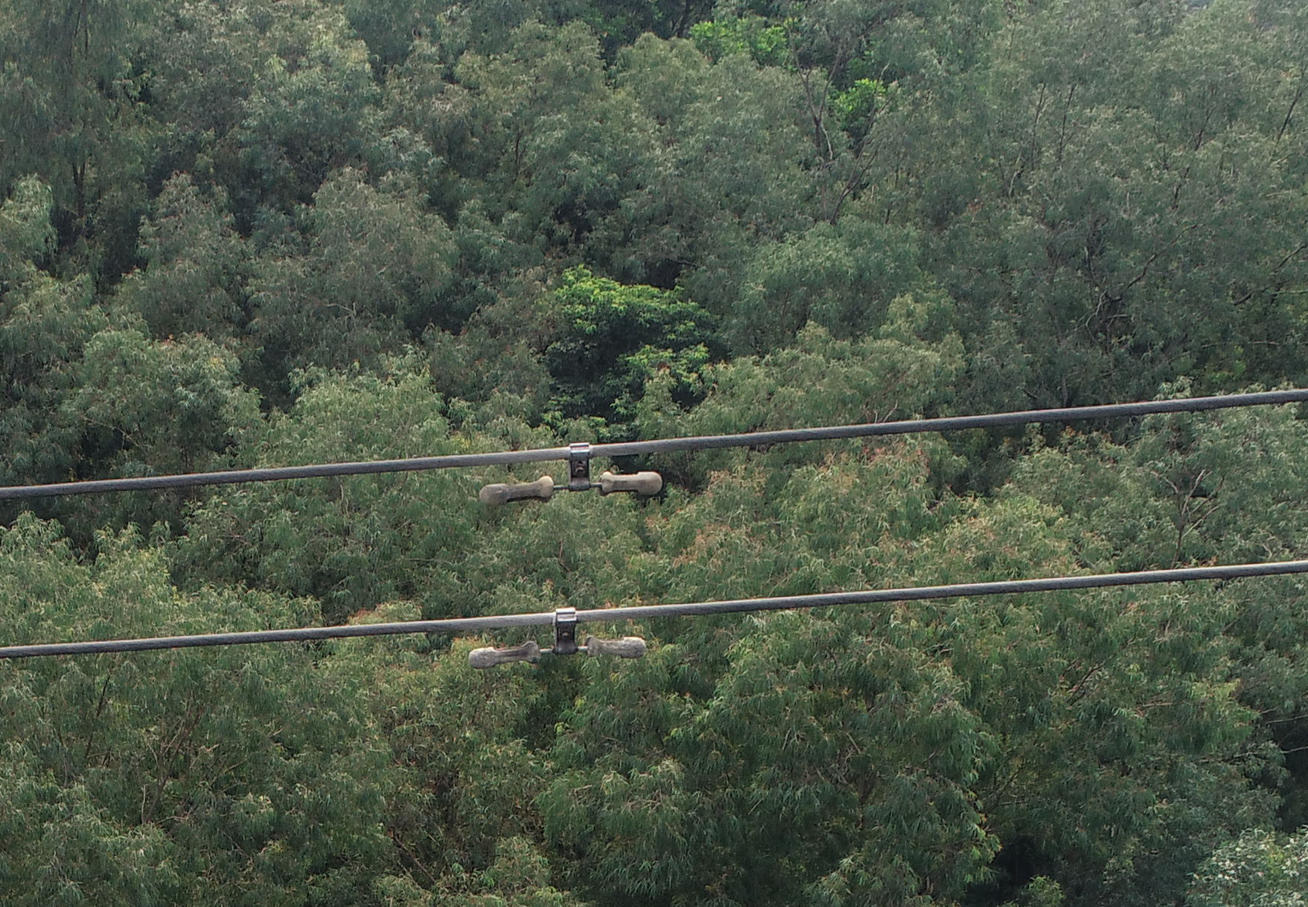damper: (476, 437, 666, 510), (466, 600, 649, 671)
